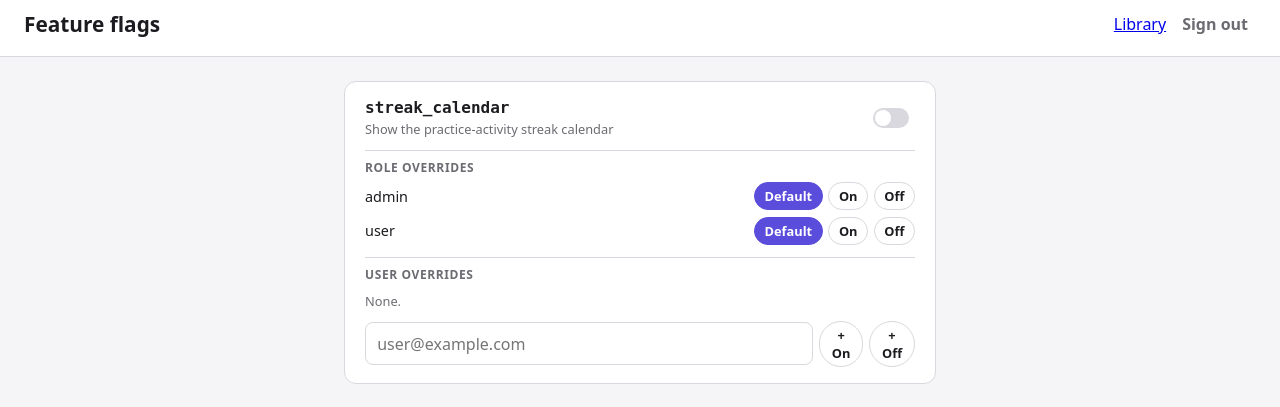
AdminFlagsPage › adds a user override by email (resolving the id via user search)
expect the text "streak_calendar" is shown: met, box [365, 98, 510, 117]
Type "bob@x.com" into the field named "Add user override for streak_calendar". click: (589, 344)
box: [365, 322, 813, 365]
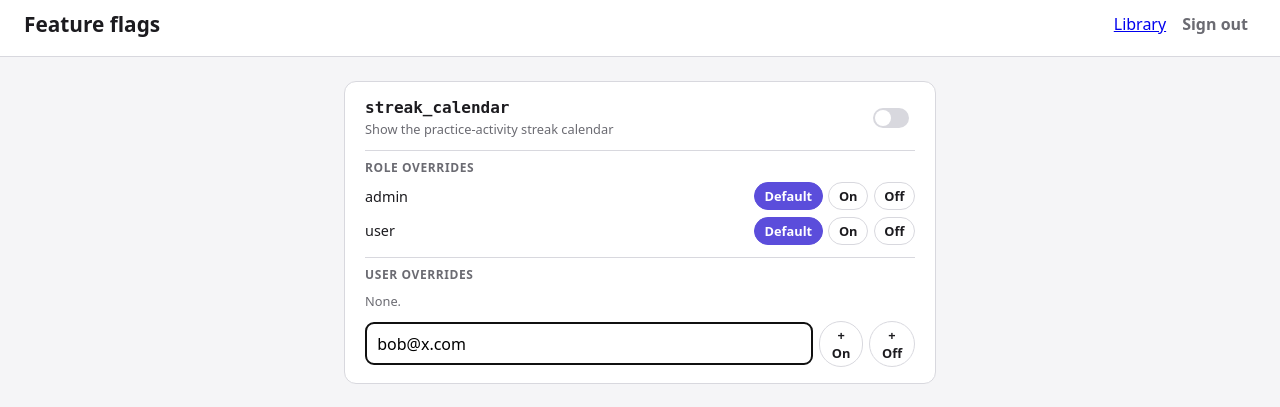
Click the button "+ On". click: (841, 344)
box: [819, 320, 864, 366]
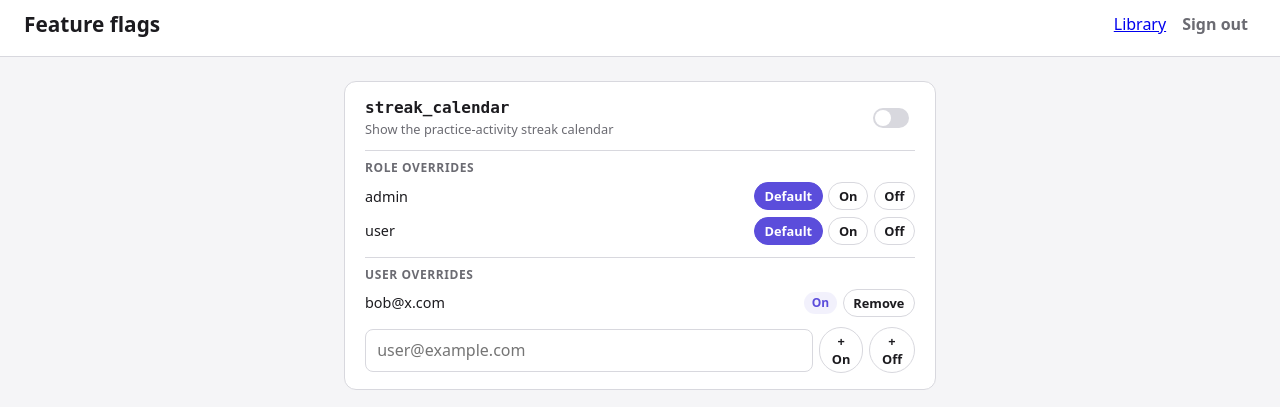
expect the text "bob@x.com" is shown: met, box [365, 294, 445, 312]
